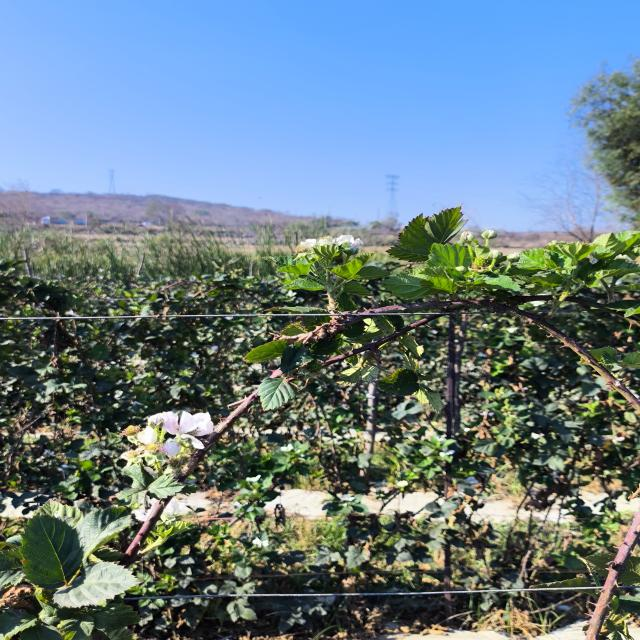boton: (481, 229, 497, 240), (461, 231, 476, 242)
flor: (148, 411, 213, 435), (160, 439, 181, 456), (334, 234, 363, 246)
